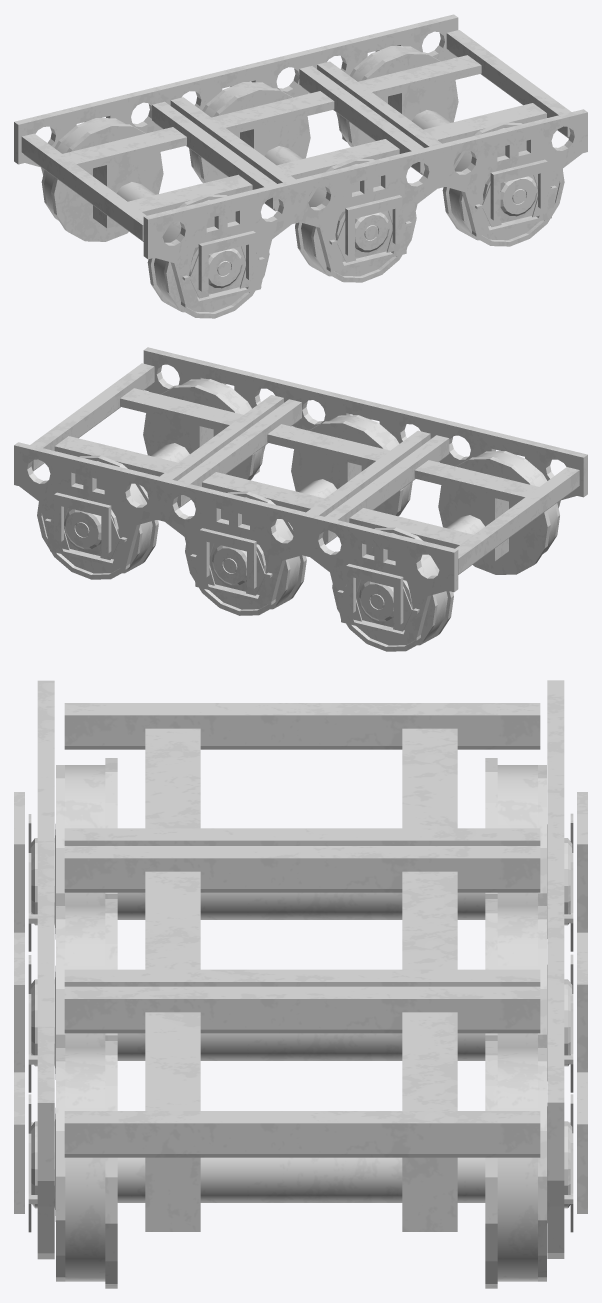
File: Steam Train WheelFrame_C_001.fbx
The picture shows the model from 3 angles, top to bottom: view 1: azimuth 30°, elevation 25°; view 2: azimuth 150°, elevation 25°; view 3: azimuth 270°, elevation 25°; orthographic projection. The views are drawn at different scales.
Parts seen in each view (by area): view 1: Steam_Train_WheelFrame_C_001; view 2: Steam_Train_WheelFrame_C_001; view 3: Steam_Train_WheelFrame_C_001.
Part boxes in pixels (x1,y1,x2,y2): Steam_Train_WheelFrame_C_001: (14, 14, 587, 318); Steam_Train_WheelFrame_C_001: (14, 347, 587, 651); Steam_Train_WheelFrame_C_001: (14, 680, 587, 1288).
Size of the model in its own units: 227 by 60.76 by 131.
Materials: 2 (2 with a texture image).
